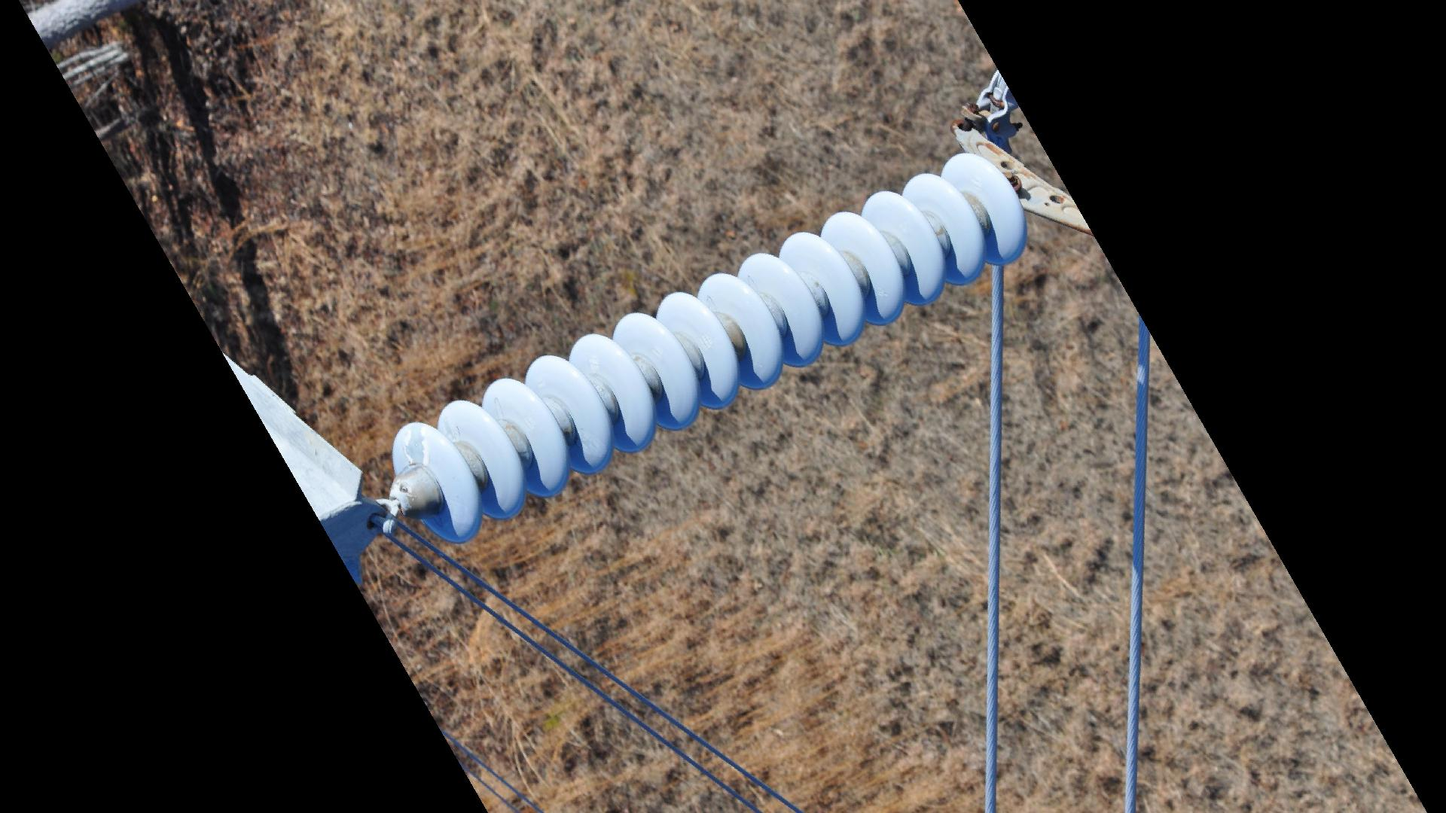insulator: (387, 149, 1033, 548)
insulator_flashover: (401, 421, 431, 468)
